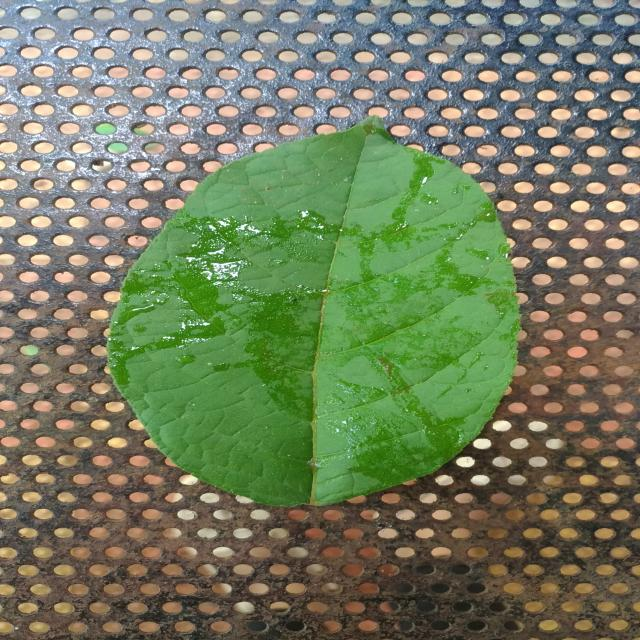padri: (109, 118, 520, 505)
